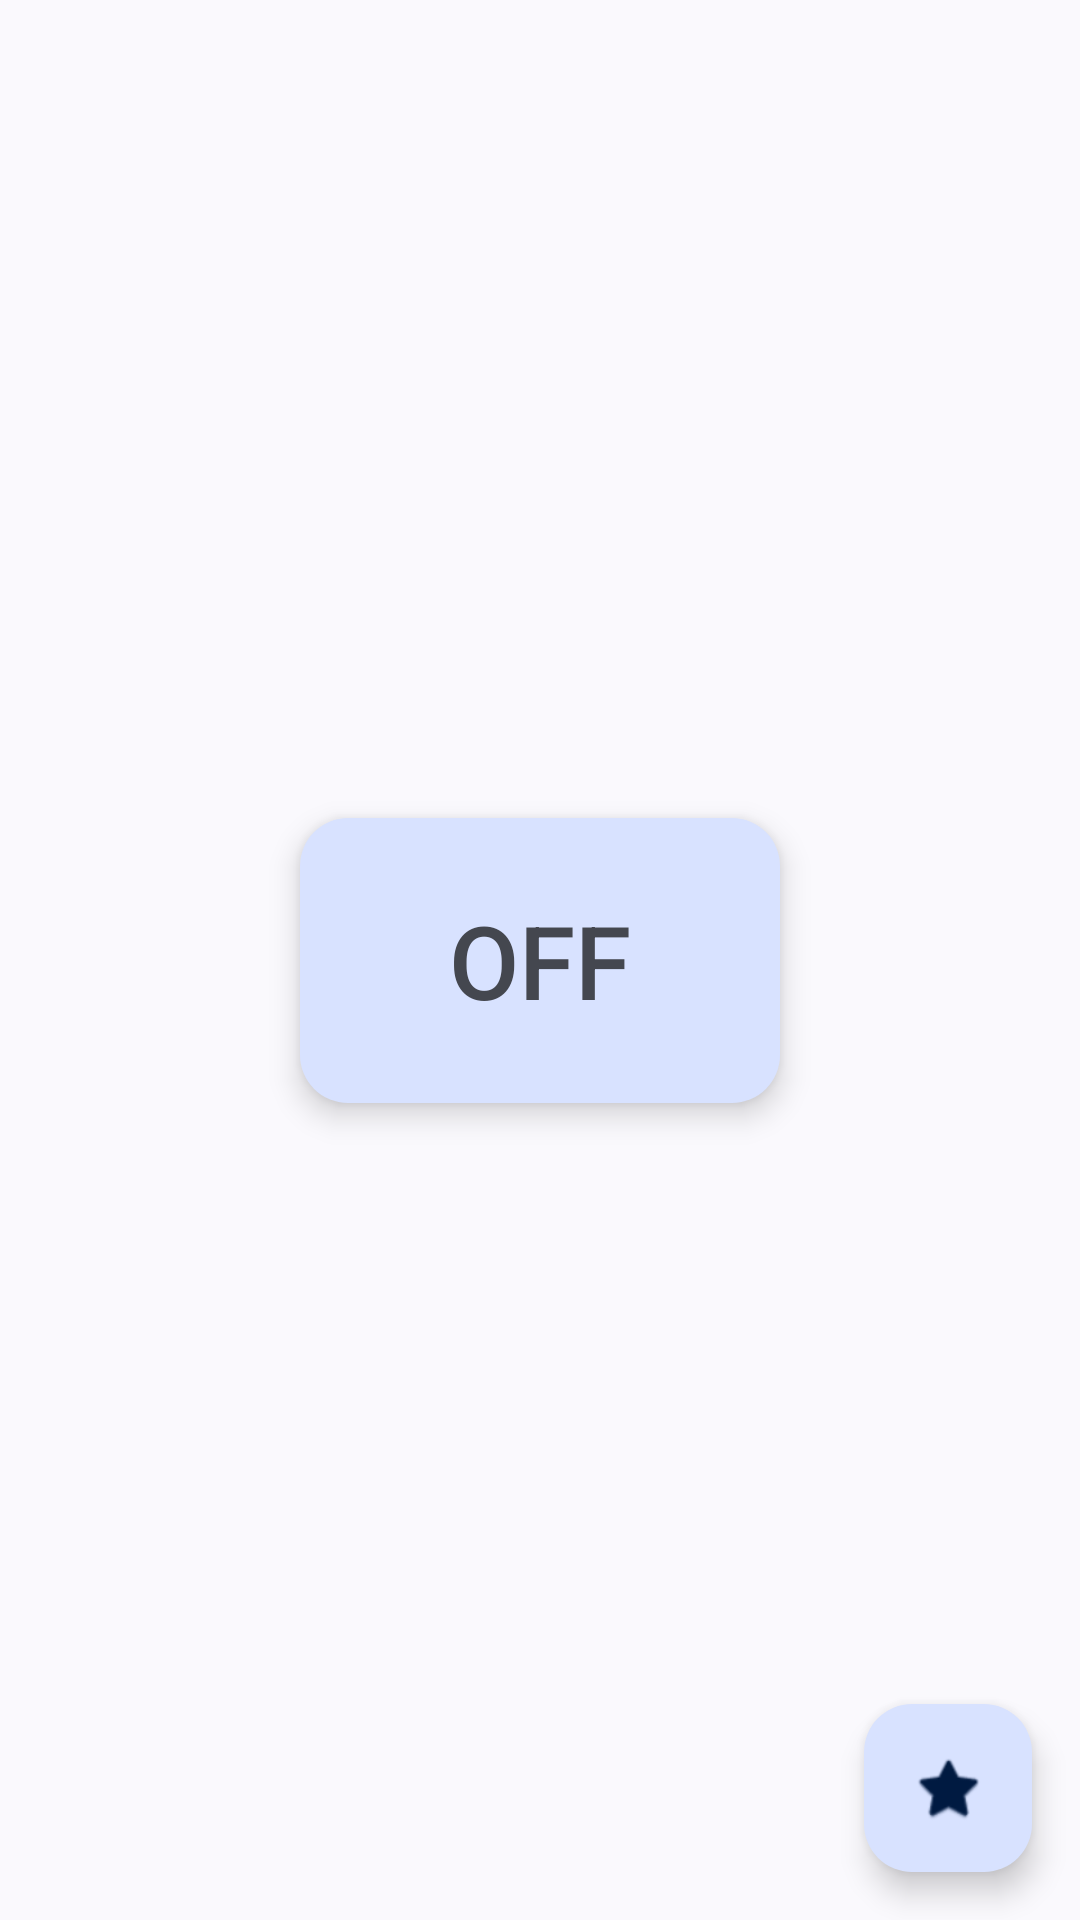

Icon click points for this 1080px×1920px phone screenshot, format (x=x, y=y):
star: (x=948, y=1788)
